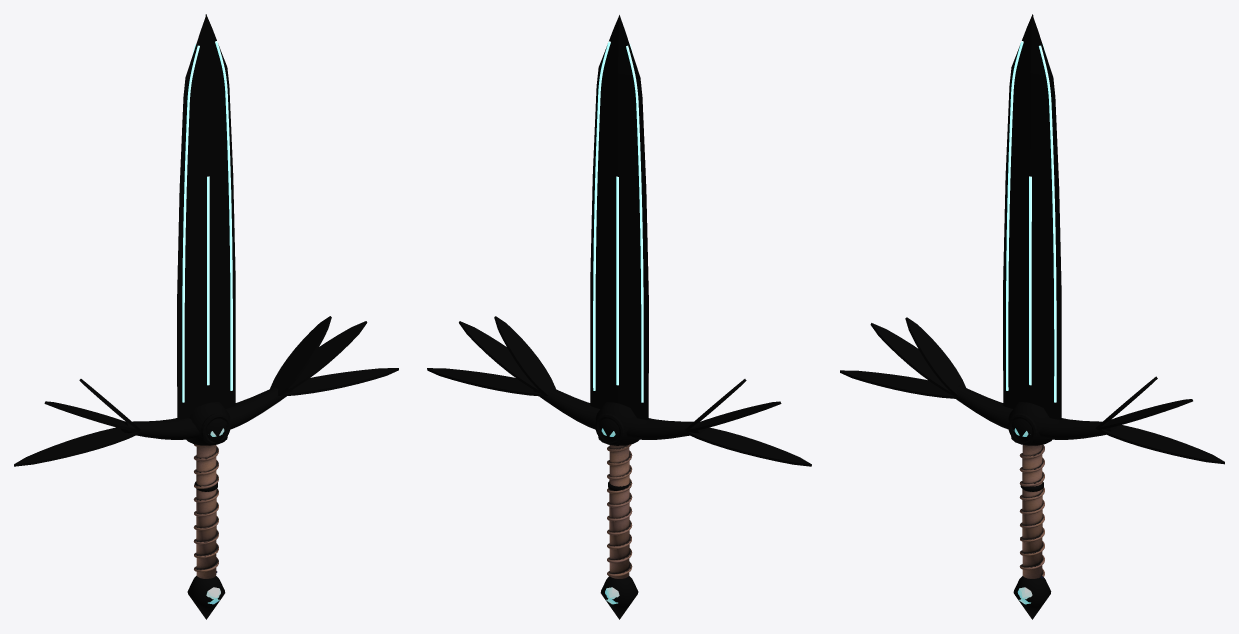
File: arma_lend_espada_sagrado.glb
The picture shows the model from 3 angles, left to right: view 1: azimuth 30°, elevation 25°; view 2: azimuth 150°, elevation 25°; view 3: azimuth 330°, elevation 25°; orthographic projection.
Parts seen in each view (by area): view 1: arma_lend_espada_sagrado, lamina_gume-1, lamina_gume1, lamina_runa-1; view 2: arma_lend_espada_sagrado, lamina_gume-1b, lamina_gume1b, lamina_runa1; view 3: arma_lend_espada_sagrado, lamina_gume1, lamina_gume-1, lamina_runa-1.
Boxes of the visible parts, x1,y1,x2,y2 form: arma_lend_espada_sagrado: [14, 14, 398, 619]; lamina_gume-1: [182, 45, 199, 402]; lamina_gume1: [215, 41, 232, 390]; lamina_runa-1: [207, 176, 209, 385]; arma_lend_espada_sagrado: [427, 15, 811, 619]; lamina_gume-1b: [626, 45, 643, 402]; lamina_gume1b: [593, 41, 610, 390]; lamina_runa1: [616, 176, 618, 385]; arma_lend_espada_sagrado: [840, 14, 1224, 619]; lamina_gume1: [1039, 45, 1056, 402]; lamina_gume-1: [1006, 41, 1023, 390]; lamina_runa-1: [1029, 176, 1031, 385].
Size of the model in its own units: 0.9859 by 1.48 by 0.1088.
Materials: 11 (1 with a texture image).
